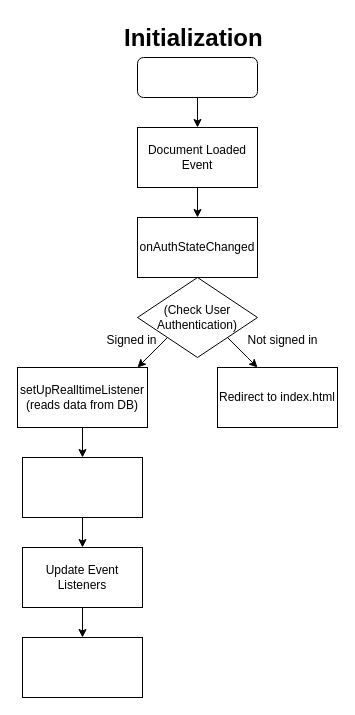
This 355x715 diagram has some shape labels left out. The centre of each missing label's shape, as x and y in pixels:
"populateGroceryList" goes at [82,487].
"setUpSignoutBtn" goes at [82,667].
"Start" goes at [197,77].
